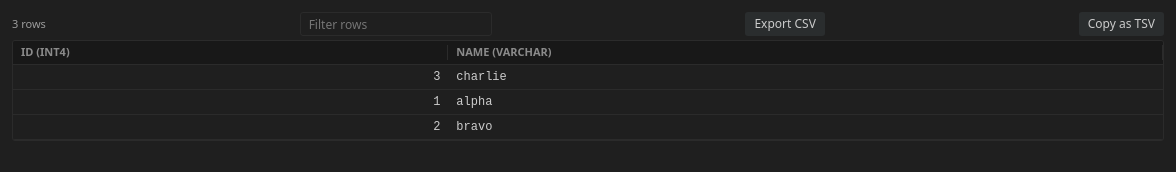
Test case: ResultsGrid — filter › filters rows by substring, case-insensitively, and reports n of m
The width and height of the screenshot is (1176, 172).
Type "ALPHA" into the search field named "Filter result 1".
click(396, 24); type("ALPHA")  # box [300, 12, 492, 36]
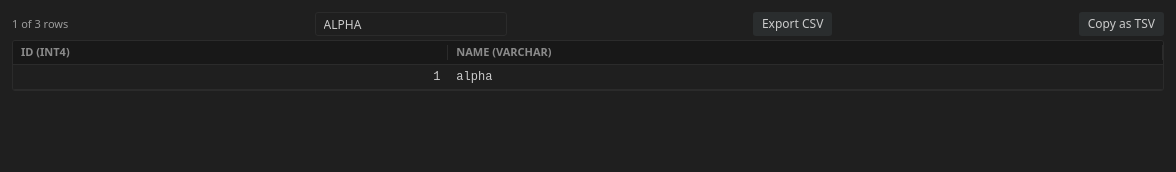
Check: the text "alpha" is shown, box [448, 64, 1163, 90]
Check: the text "bravo" is gone
Check: the text "1 of 3 rows" is shown, box [12, 17, 68, 31]
